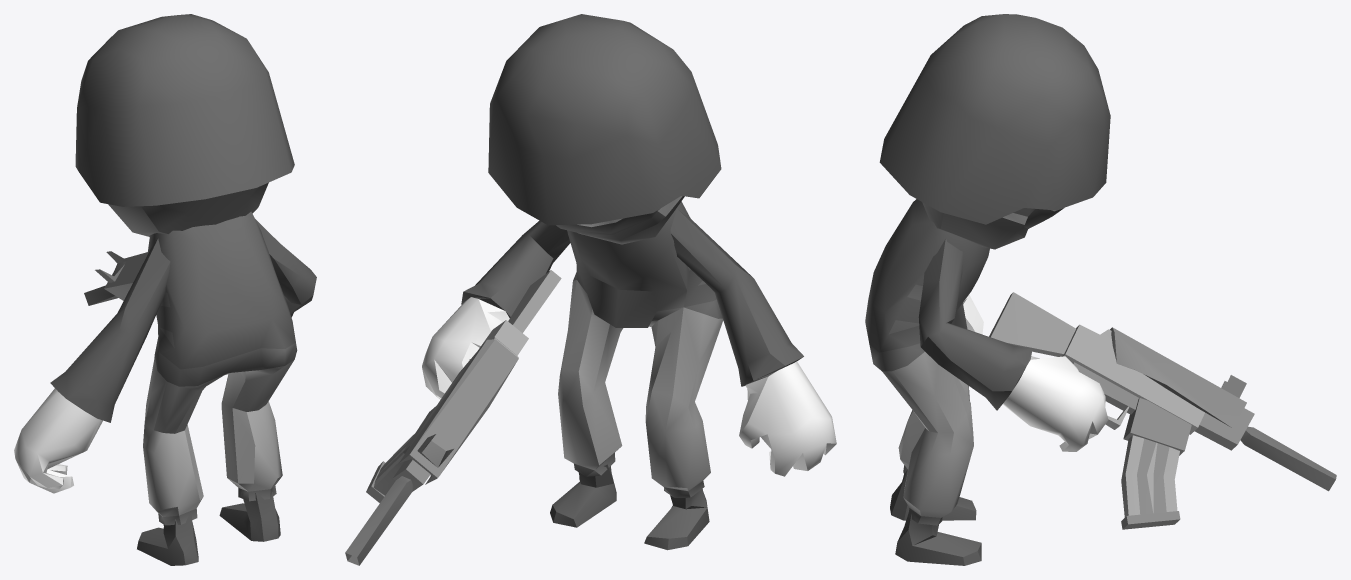
Rendered from militia.glb.
3 views of the same model, side by side, from view 1: azimuth 30°, elevation 25°; view 2: azimuth 150°, elevation 25°; view 3: azimuth 270°, elevation 25° (orthographic). The views are drawn at different scales.
Parts seen in each view (by area): view 1: Body; view 2: Body; view 3: Body.
Part boxes in pixels (x1,y1,x2,y2): Body: [14, 14, 316, 565]; Body: [345, 14, 836, 565]; Body: [865, 14, 1336, 565].
Bounding box in the file's own units: 1.28 × 1.8 × 1.5.
2 materials, 1 textured.
